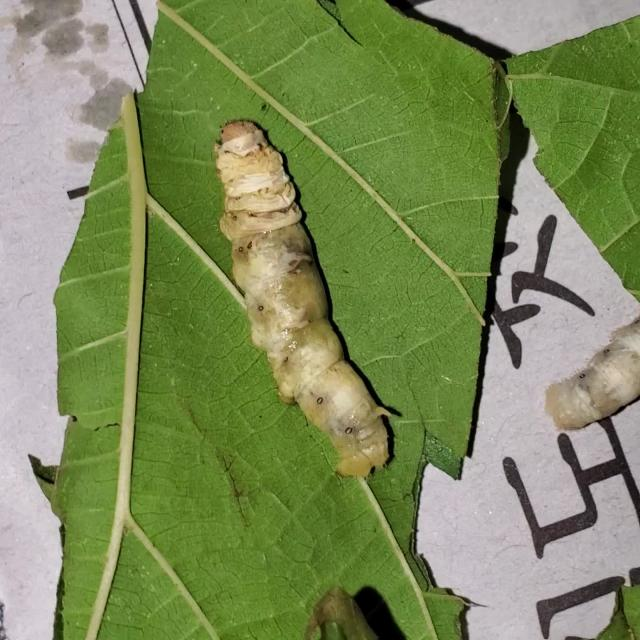Grasserie: (202, 102, 407, 480)
